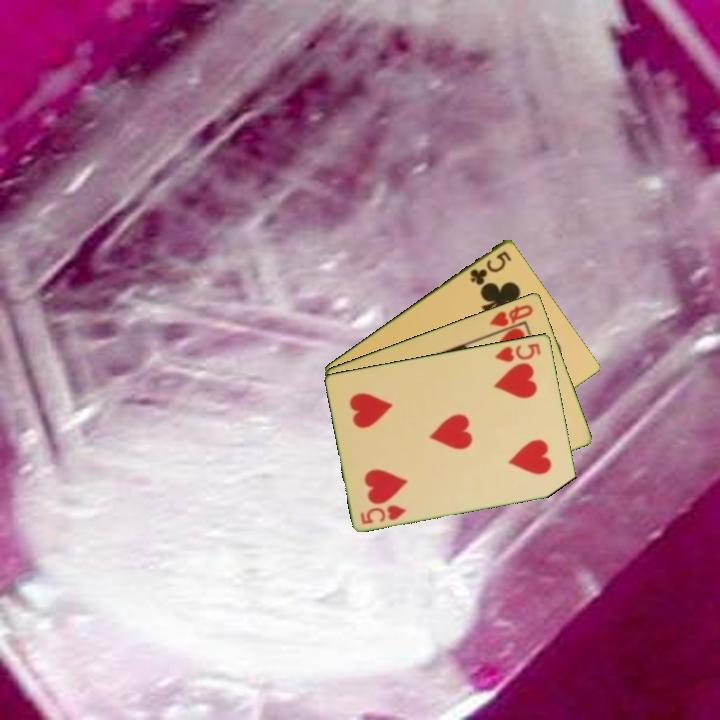5c: (466, 247, 514, 288)
5h: (357, 501, 409, 527), (492, 339, 543, 365)
Qh: (486, 301, 536, 329)
